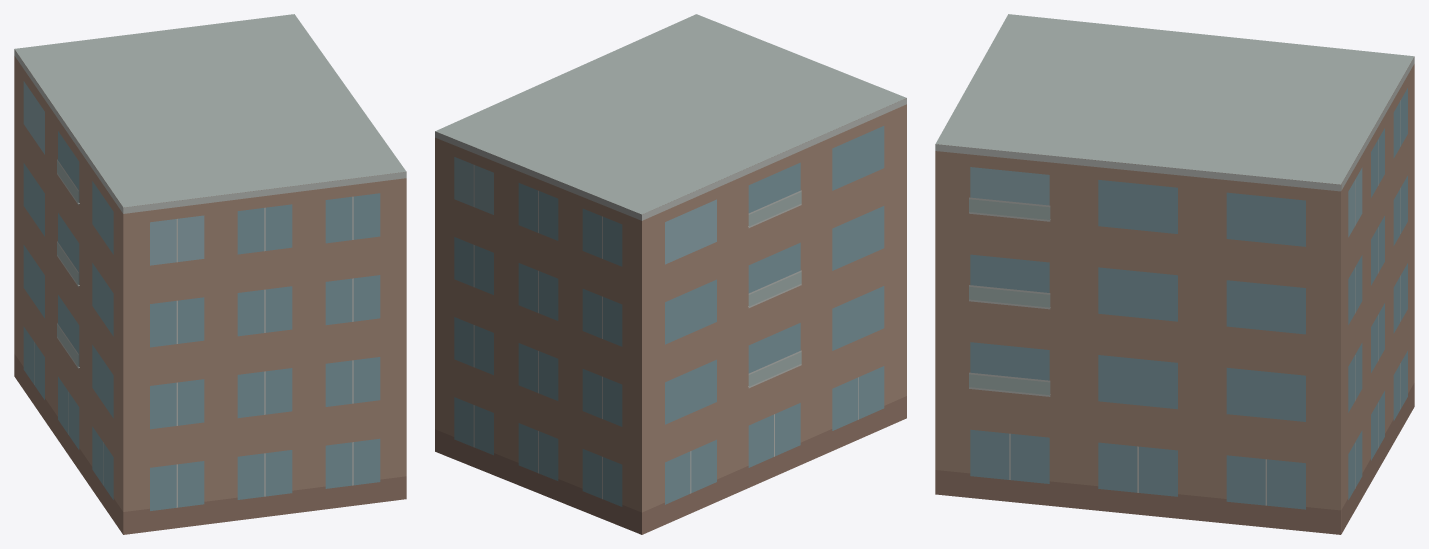
Rendered from survey-upis-32880513.glb.
3 views of the same model, side by side, from view 1: azimuth 30°, elevation 25°; view 2: azimuth 150°, elevation 25°; view 3: azimuth 270°, elevation 25° (orthographic). The views are drawn at different scales.
Parts seen in each view (by area): view 1: survey-upis-32880513.tmp; view 2: survey-upis-32880513.tmp; view 3: survey-upis-32880513.tmp.
Part boxes in pixels (x1,y1,x2,y2): survey-upis-32880513.tmp: (14,14,406,534); survey-upis-32880513.tmp: (435,14,906,534); survey-upis-32880513.tmp: (935,14,1414,534).
Bounding box in the file's own units: 12.96 × 12.4 × 15.39.
